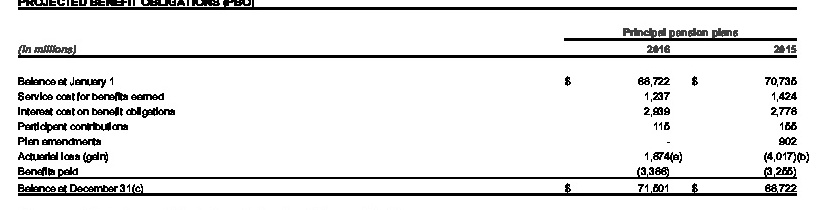table: (0, 0, 833, 210)
